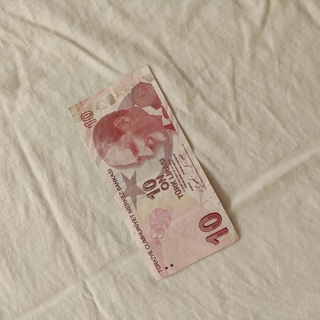10TLFront: (66, 62, 240, 281)
